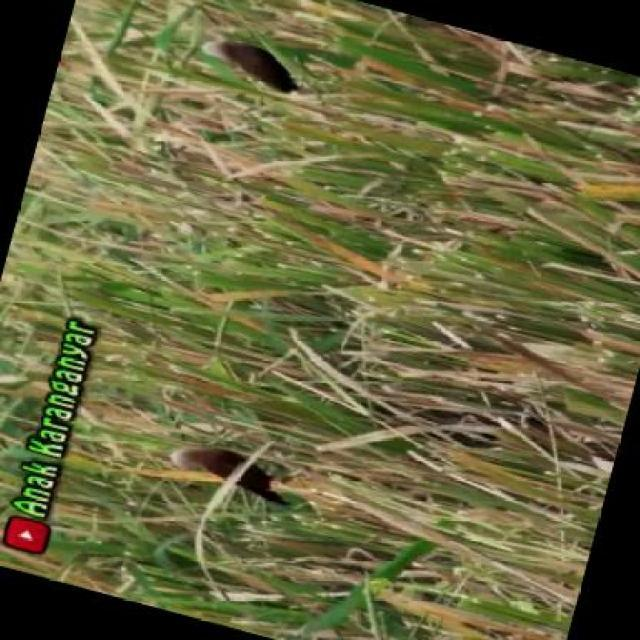Bird: (144, 435, 322, 522), (197, 24, 319, 130)
